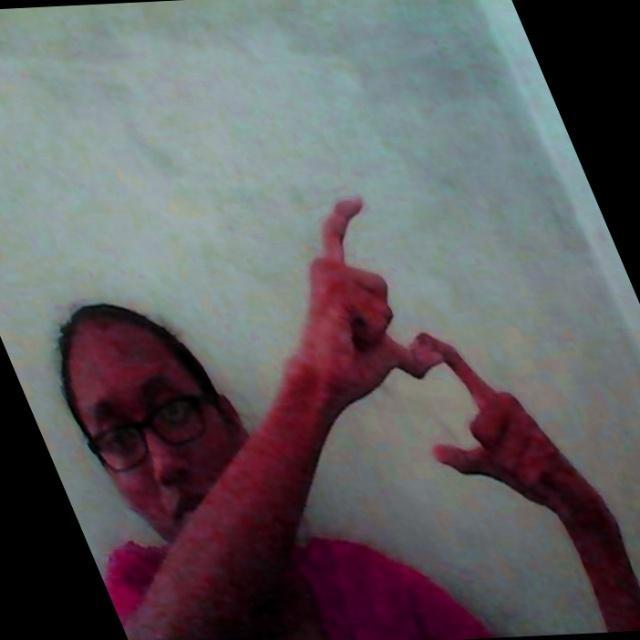S: (286, 182, 524, 480)
